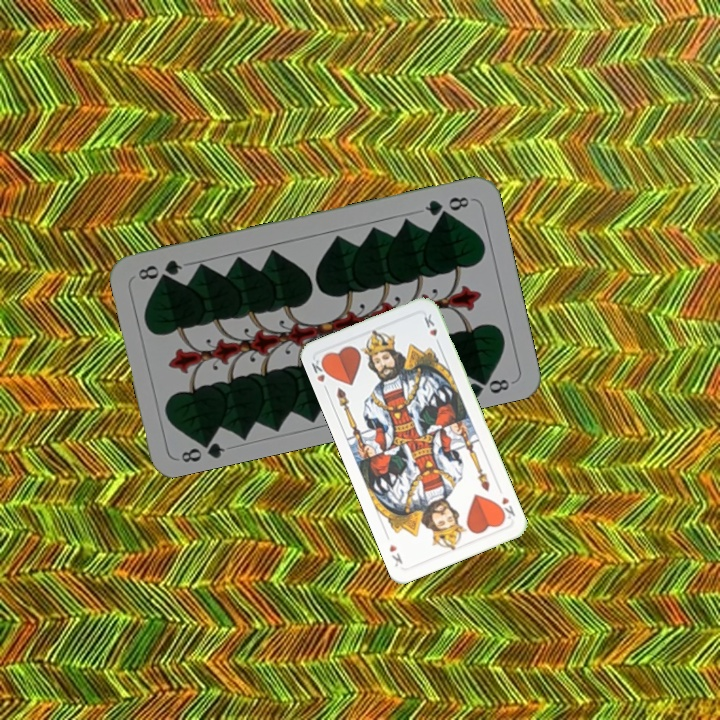G8: (177, 432, 228, 466), (421, 192, 472, 219)
HK: (307, 353, 332, 395), (494, 492, 518, 522)
